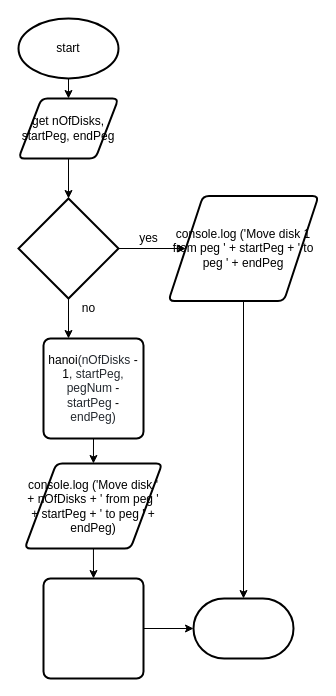
Some shapes in this 336 by 696 pixel diagram are drawn without their labels. The shapes that lost their labels are listed below. From the top down, each one's centre as x and y in pixels, then its label:
At (x=68, y=248): "if nOfDisks === 1".
At (x=93, y=628): "hanoi ( nOfDisks - 1 , pegNum - startPeg - endPeg , endPeg )".
At (x=243, y=628): "stop".
